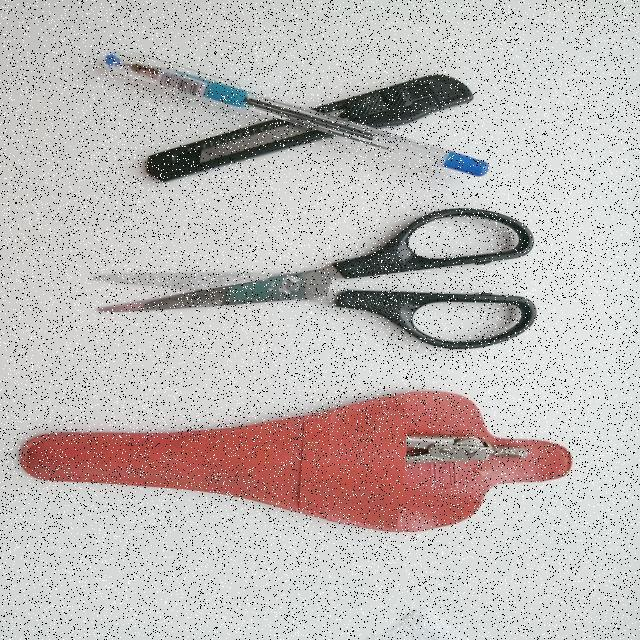scissors: (82, 199, 558, 356)
